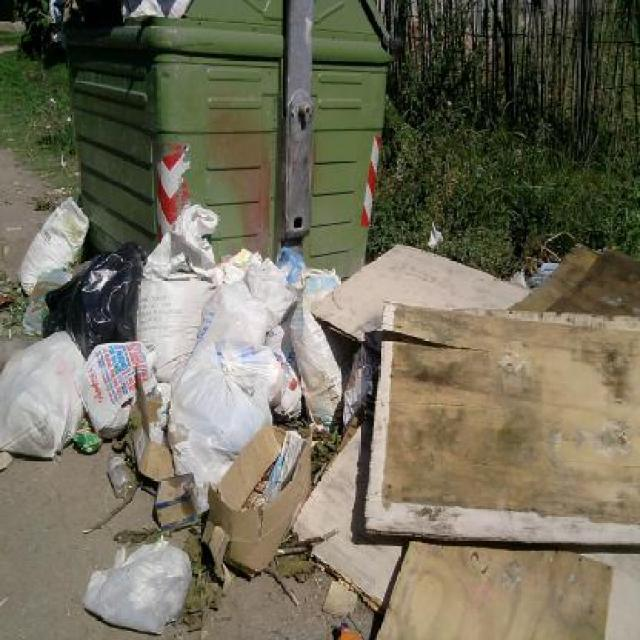garbage: (19, 225, 318, 596)
